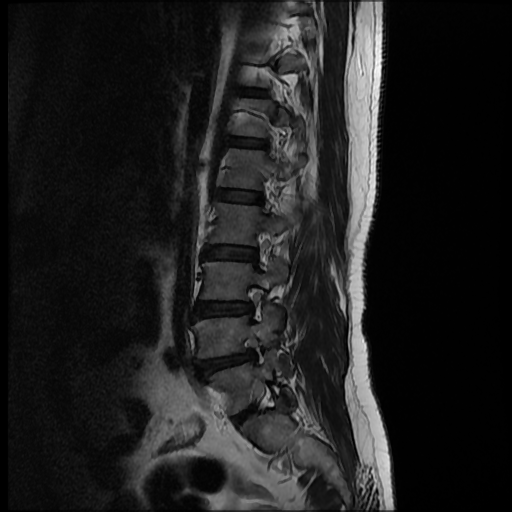RFS0: (235, 272, 272, 326), (244, 223, 278, 275)
RFS1: (233, 325, 276, 371)
